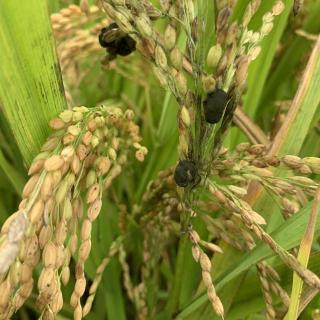Gosong-Palsu: (98, 22, 138, 56), (202, 87, 236, 125), (172, 158, 200, 188)
